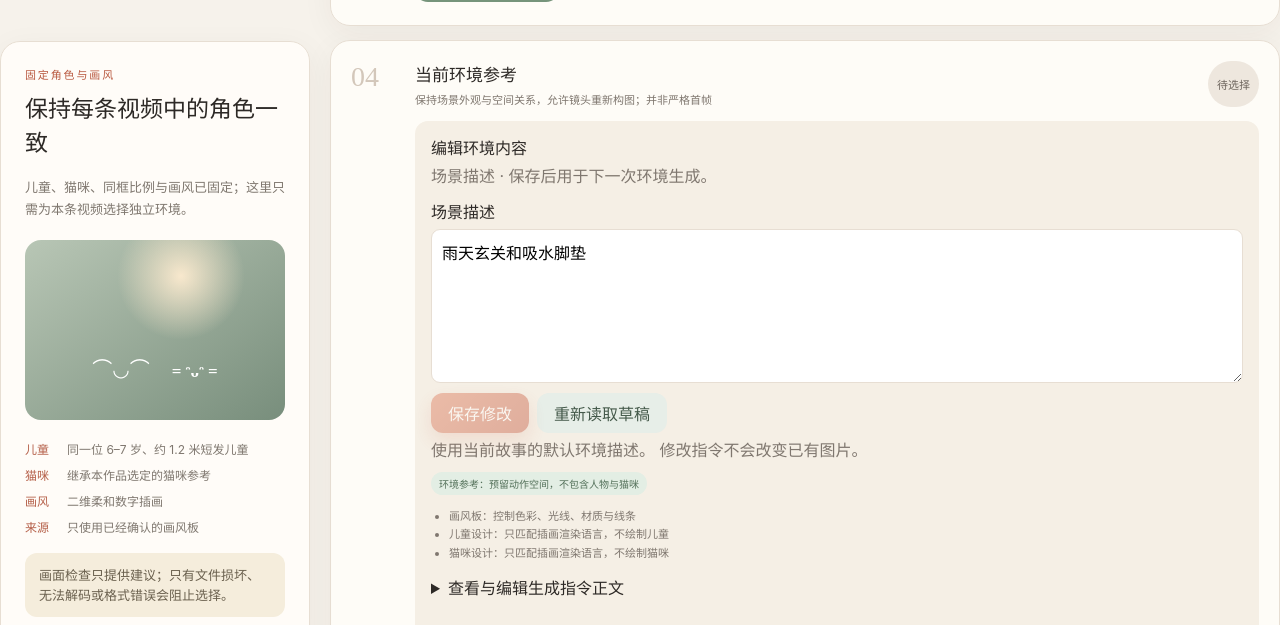
AssetsStep › saves description edits without generating and preserves text on a revision conflict
(page scrolled)
Replace the text in the text box named "场景描述" with "风车平躺地板，手柄贴地" at (837, 306), box 431,229 -> 1243,383
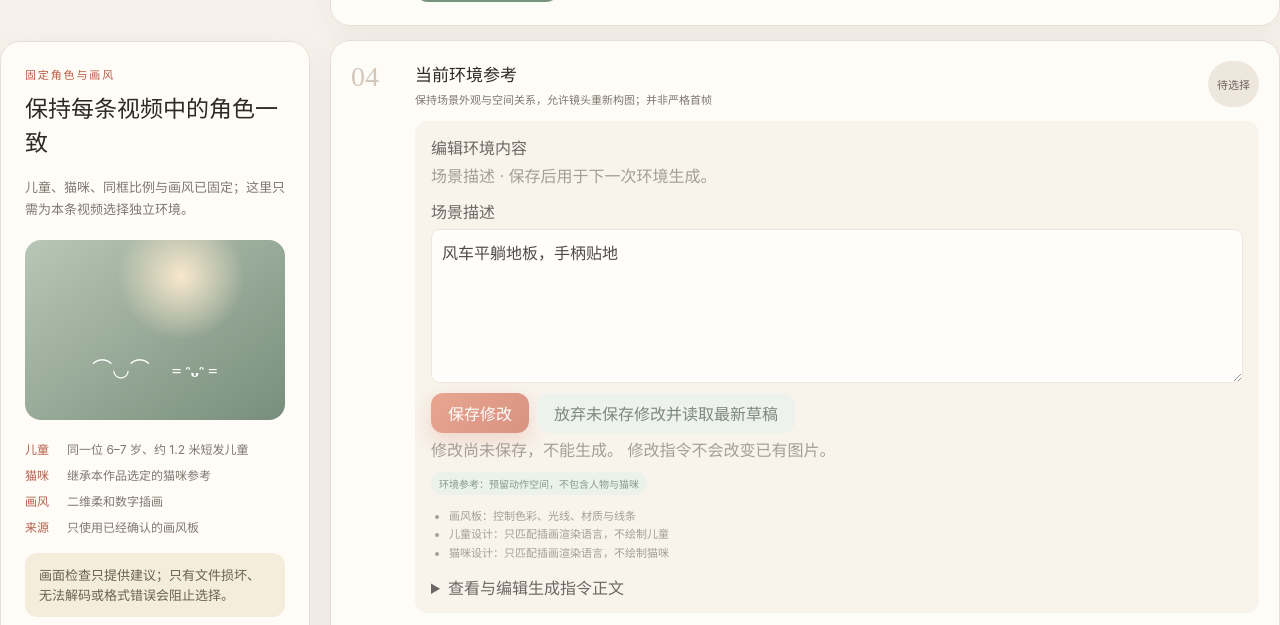
Click the button "保存修改" at (480, 413), box 431,393 -> 529,433
(page scrolled)
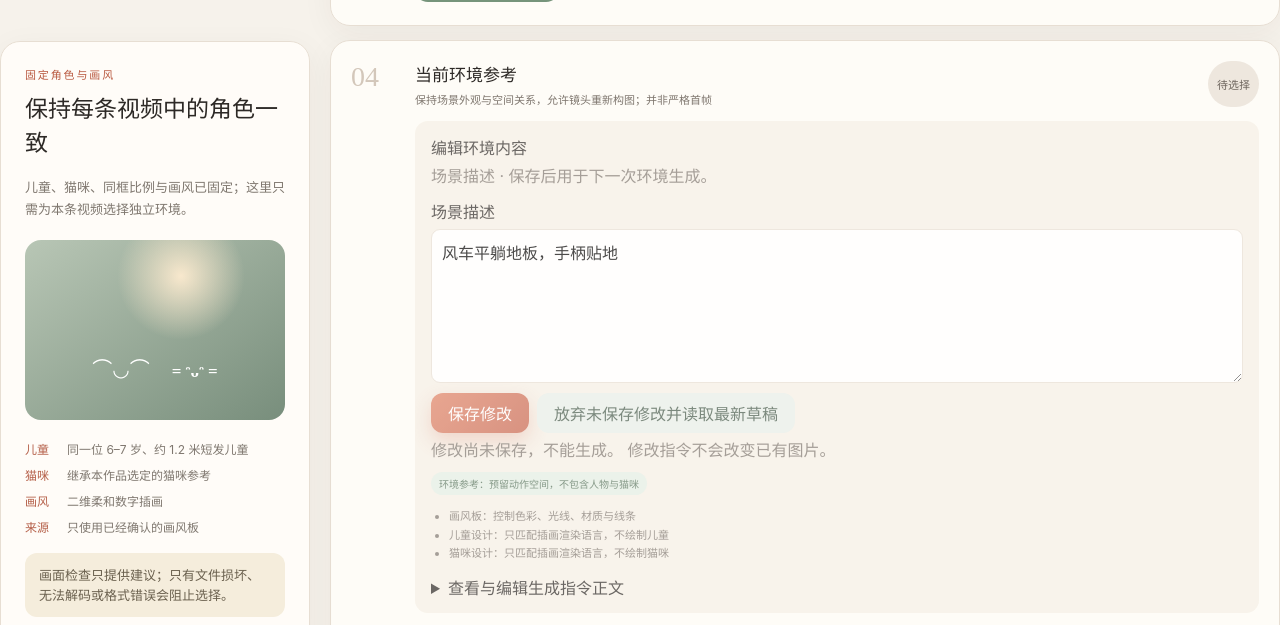
Click the button "保存修改" at (480, 413), box 431,393 -> 529,433
(page scrolled)
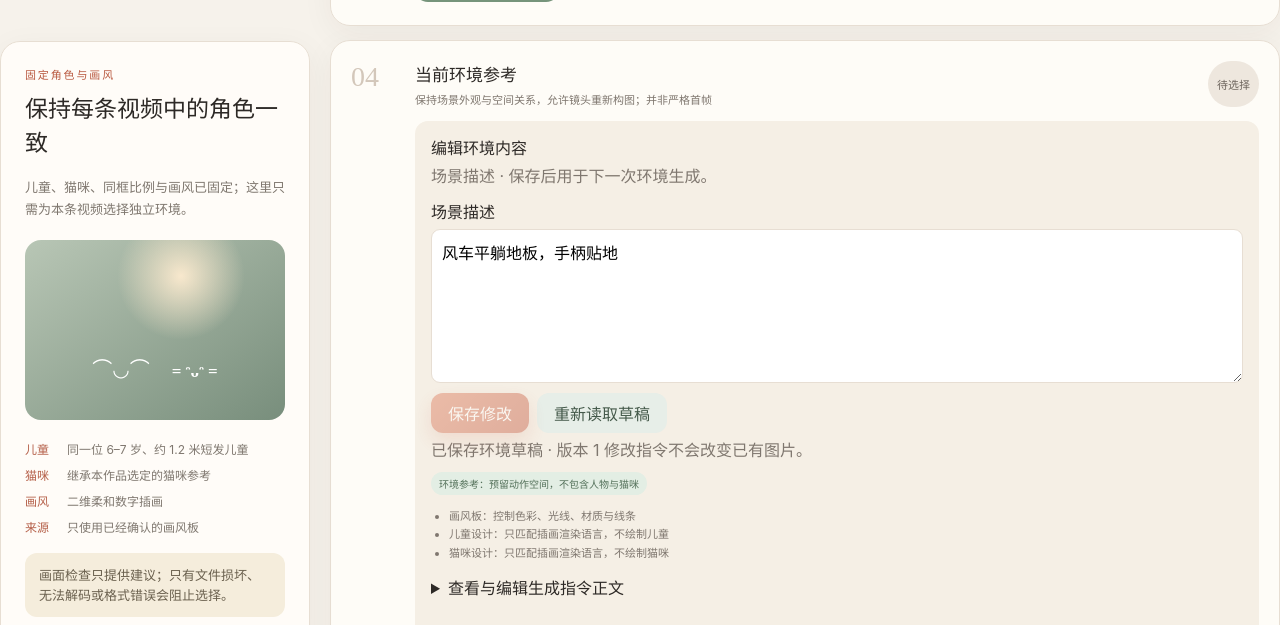
Now the text "版本 1" is shown, box 431,440 -> 812,460
